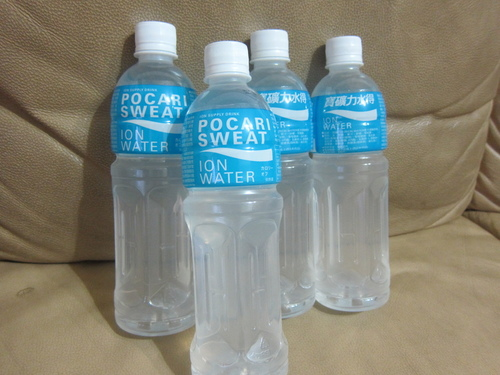POCARI SWEAT: (187, 40, 288, 375), (112, 19, 191, 339), (238, 29, 312, 319), (312, 35, 387, 314)
